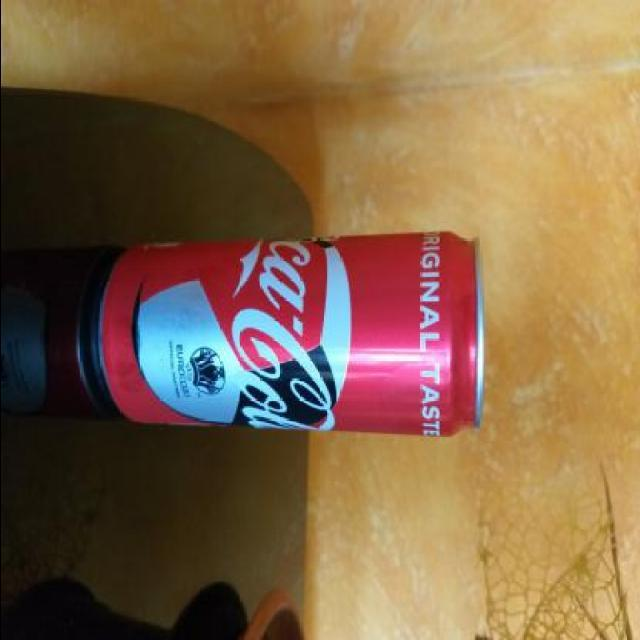Coke: (92, 224, 486, 442)
